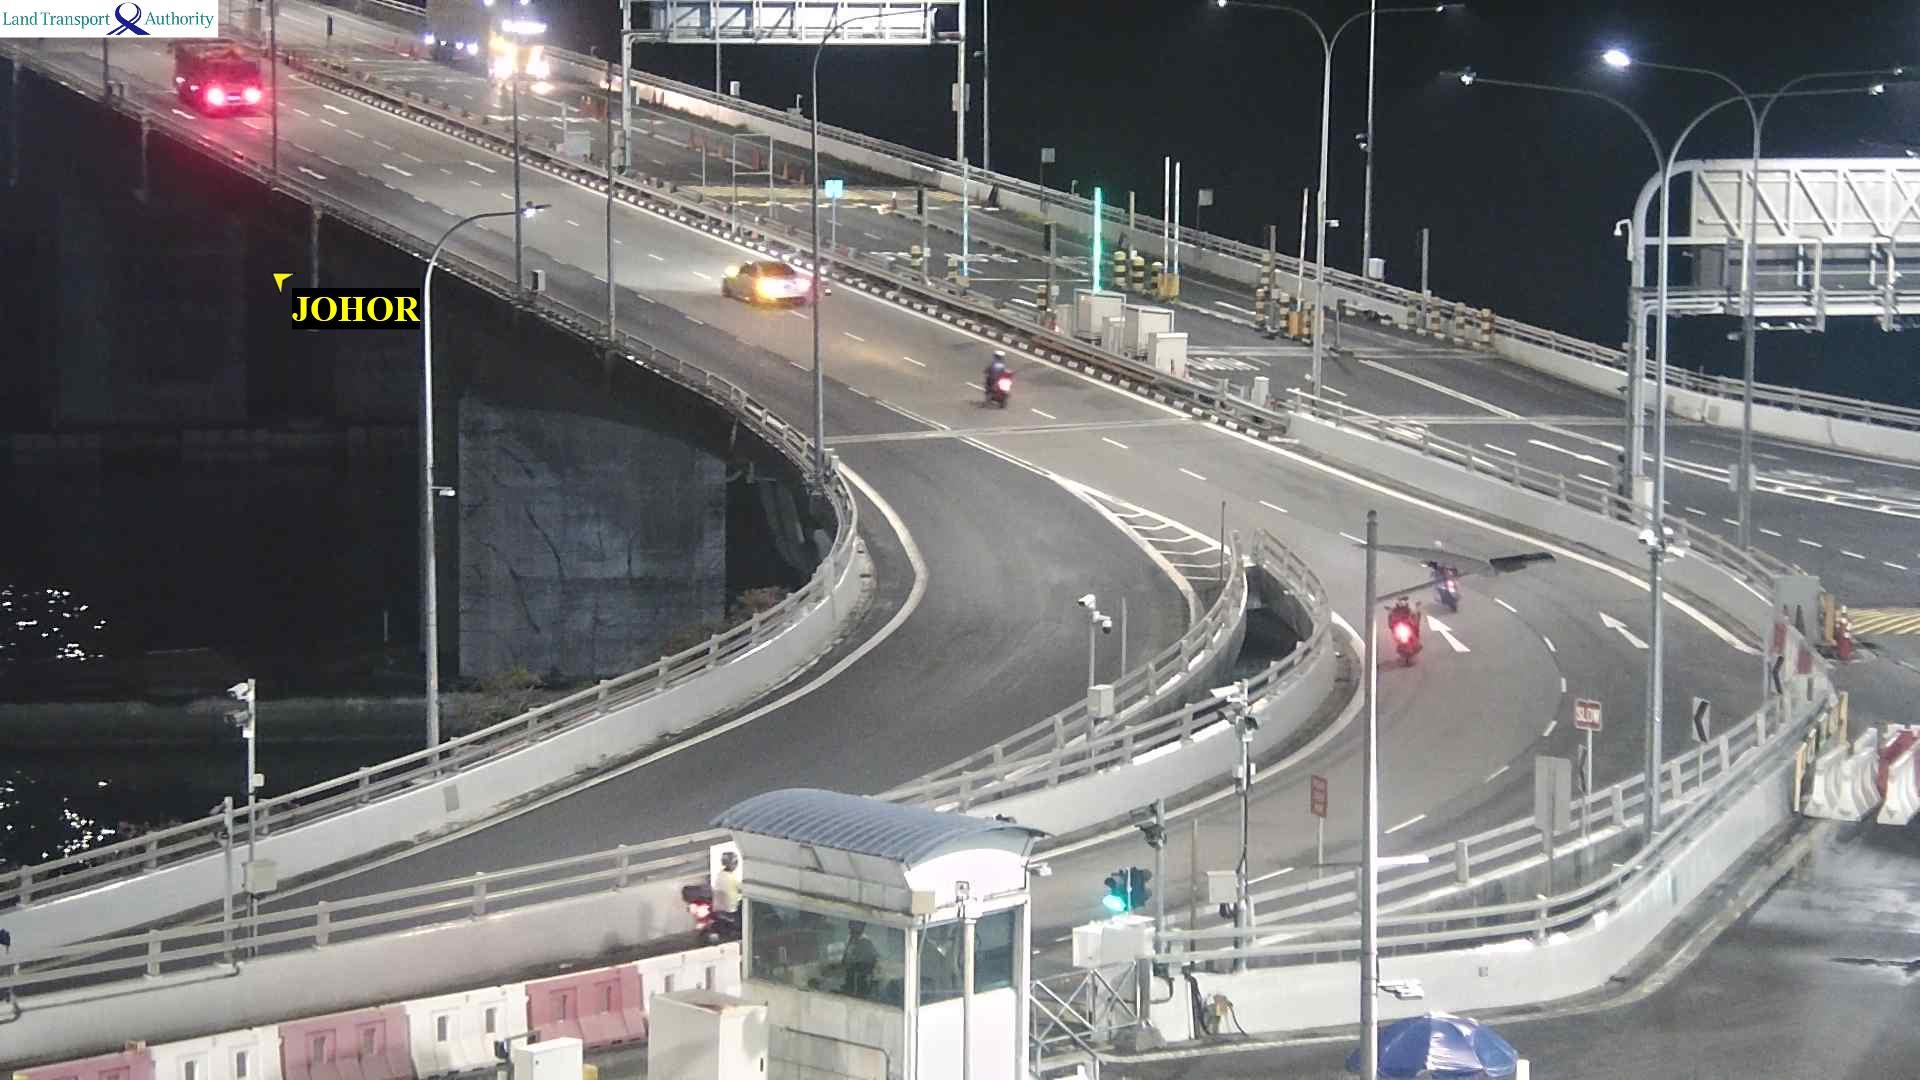vehicle-secondlink-johor: (173, 37, 262, 119), (727, 253, 811, 314), (687, 870, 746, 942), (1429, 539, 1461, 608), (975, 353, 1013, 407), (1389, 605, 1420, 670)
vehicle-secondlink-singapore: (373, 0, 546, 69)
